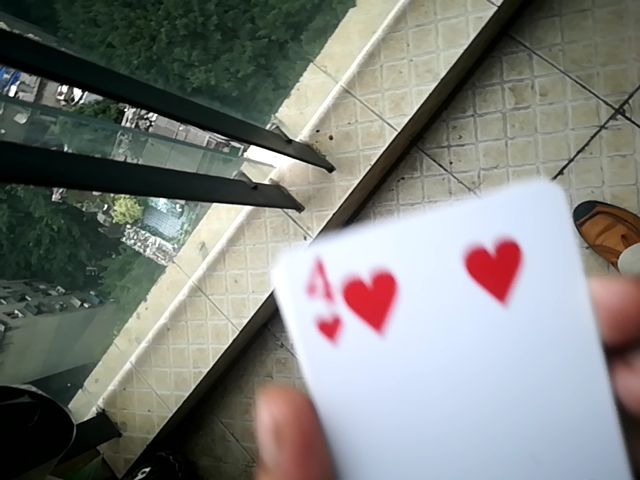hx 4: (262, 180, 640, 480)
